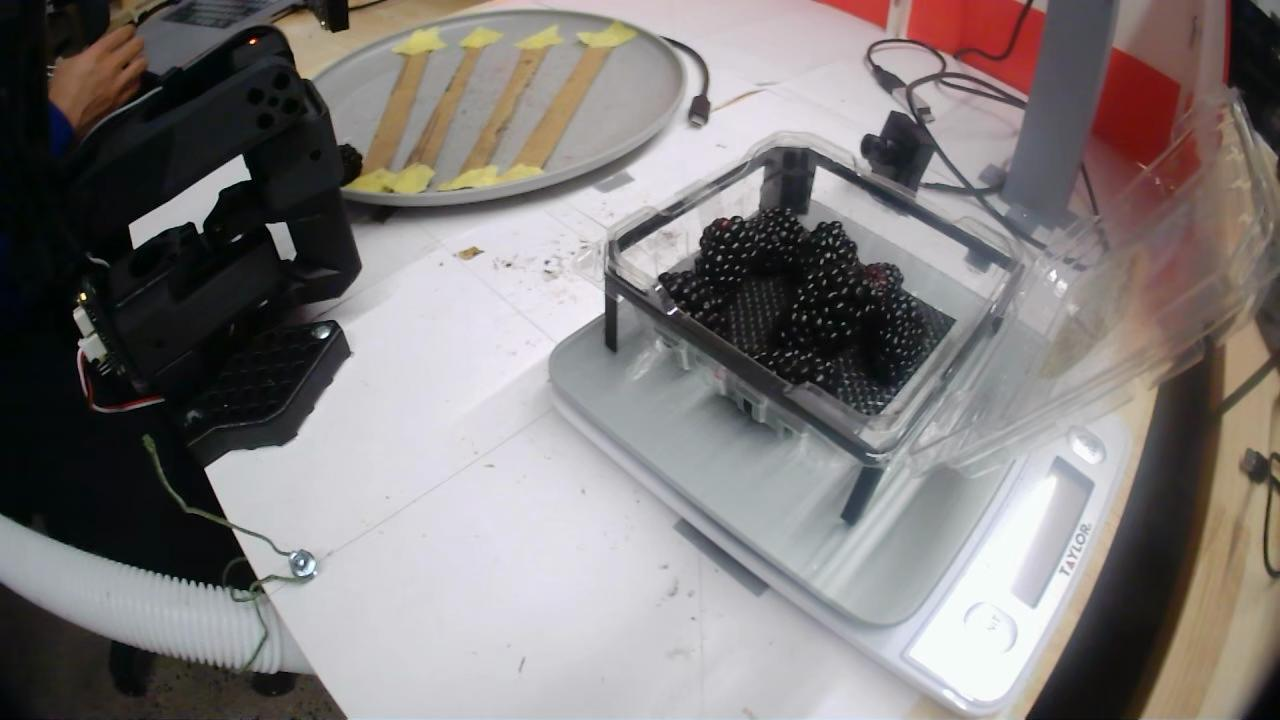berry: (787, 262, 868, 356), (861, 280, 930, 387), (695, 216, 757, 288), (794, 221, 858, 289), (746, 208, 806, 275), (658, 269, 725, 328), (756, 348, 839, 392), (862, 263, 903, 306), (340, 143, 362, 185)
